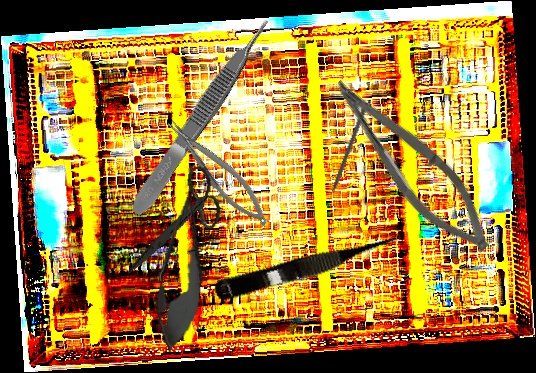Iris Scissors: (126, 156, 229, 289)
Micro Scissor: (312, 68, 509, 265), (212, 227, 411, 306), (148, 159, 216, 358)
Needle Holder: (161, 109, 277, 235)
Pusher: (323, 101, 369, 209)
Tissue Forceps: (124, 14, 279, 220)
